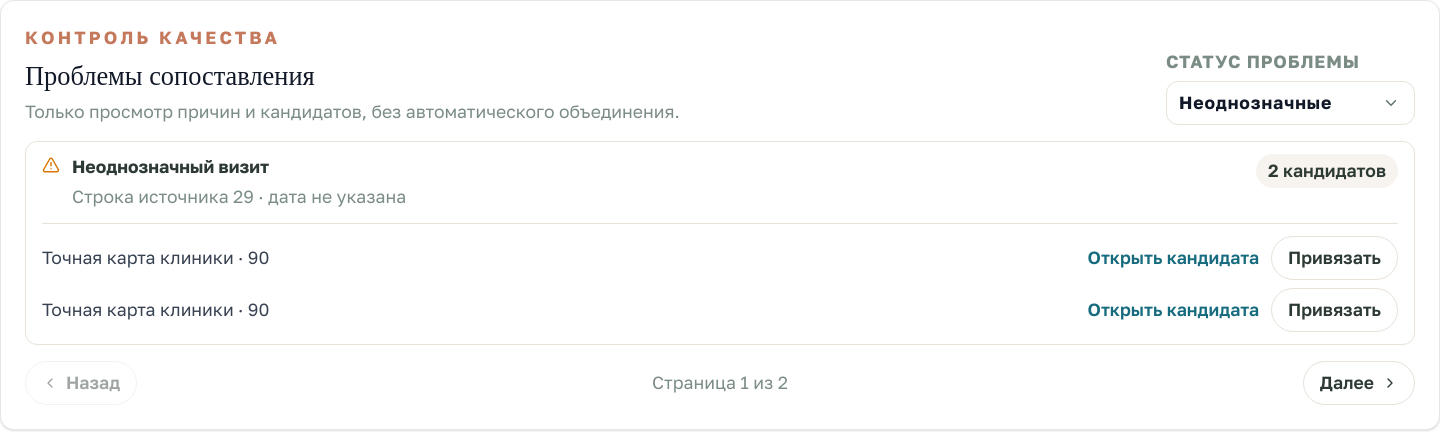
Test case: PatientHistoryIssues › clears previous issue rows and reports a current status-filter failure
The image size is (1440, 448).
Select "Не сопоставленные" in the dropdown labelled "Статус проблемы" at [1290, 103], box [1166,81,1415,125]
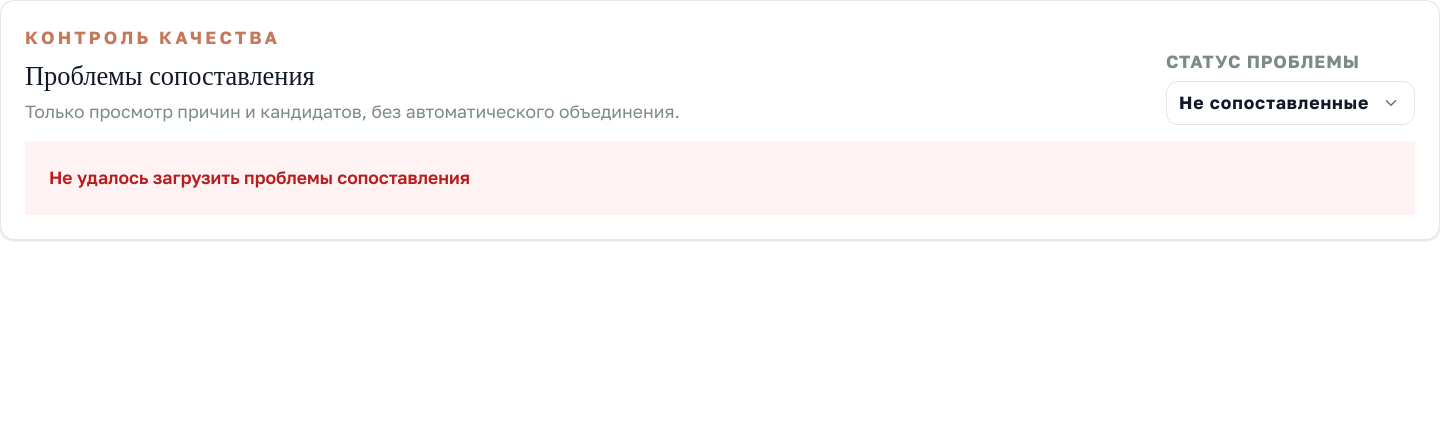
expect the message reads "Не удалось загрузить проблемы сопоставления": met, box [49,167,470,188]
